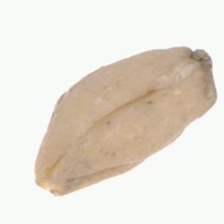L1: (186, 46, 217, 101), (32, 165, 66, 197)
L2: (33, 46, 217, 197)
